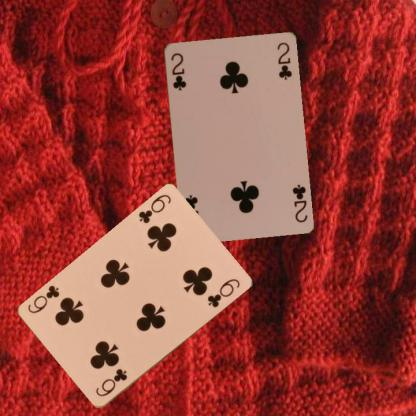2c: (168, 50, 187, 91), (290, 182, 308, 224)
6c: (136, 192, 173, 225), (93, 366, 129, 398)
